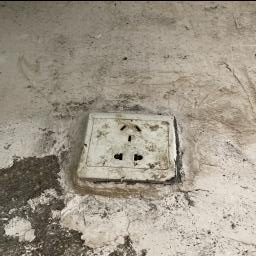outlet: (66, 102, 192, 188)
